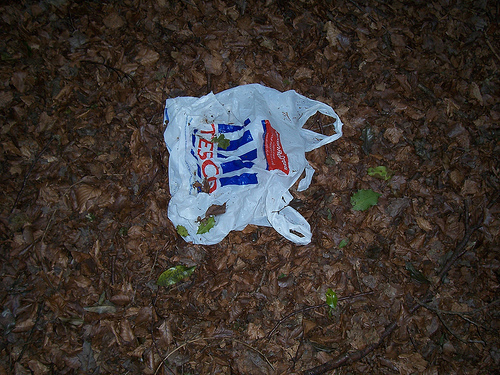litter: (162, 82, 343, 248)
